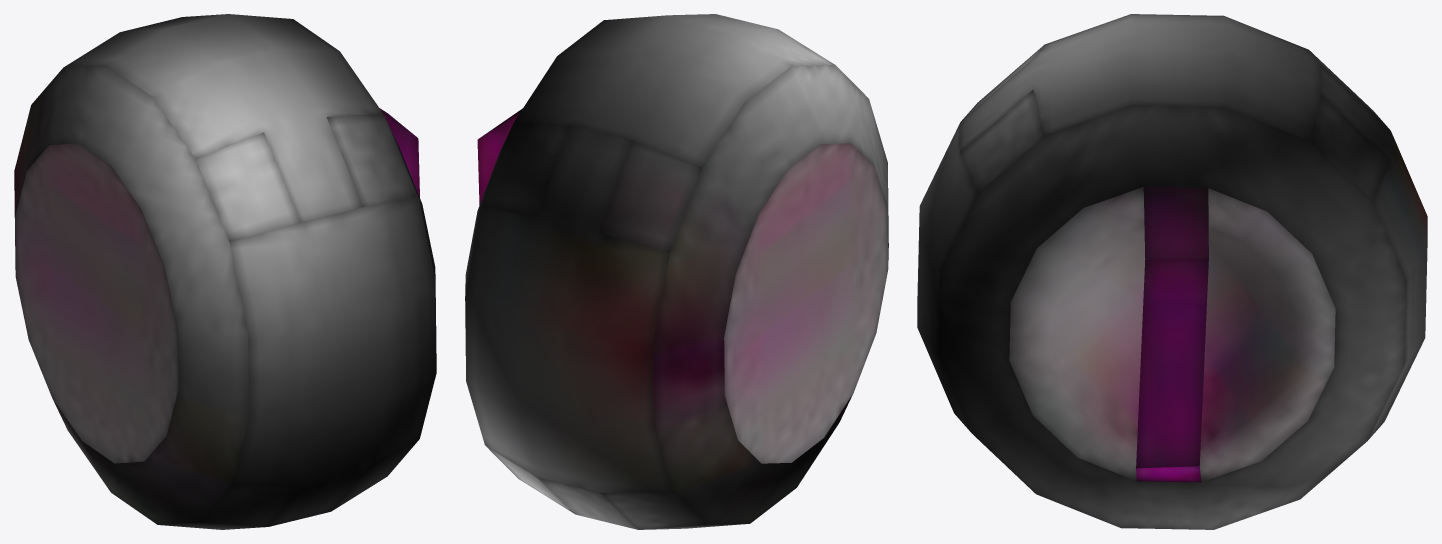
File: frontleft.obj
3 views of the same model, side by side, from view 1: azimuth 30°, elevation 25°; view 2: azimuth 150°, elevation 25°; view 3: azimuth 270°, elevation 25° (orthographic).
Parts seen in each view (by area): view 1: Object014; view 2: Object014; view 3: Object014.
Part boxes in pixels (<box>): Object014: <box>14,14,436,529</box>; Object014: <box>465,14,888,529</box>; Object014: <box>917,14,1427,529</box>.
Size of the model in its own units: 5.4 by 7.73 by 7.73.
Materials: 1 (1 with a texture image).
